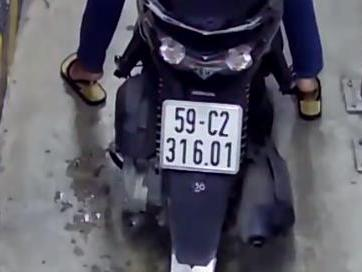num_plate: (161, 96, 240, 175)
